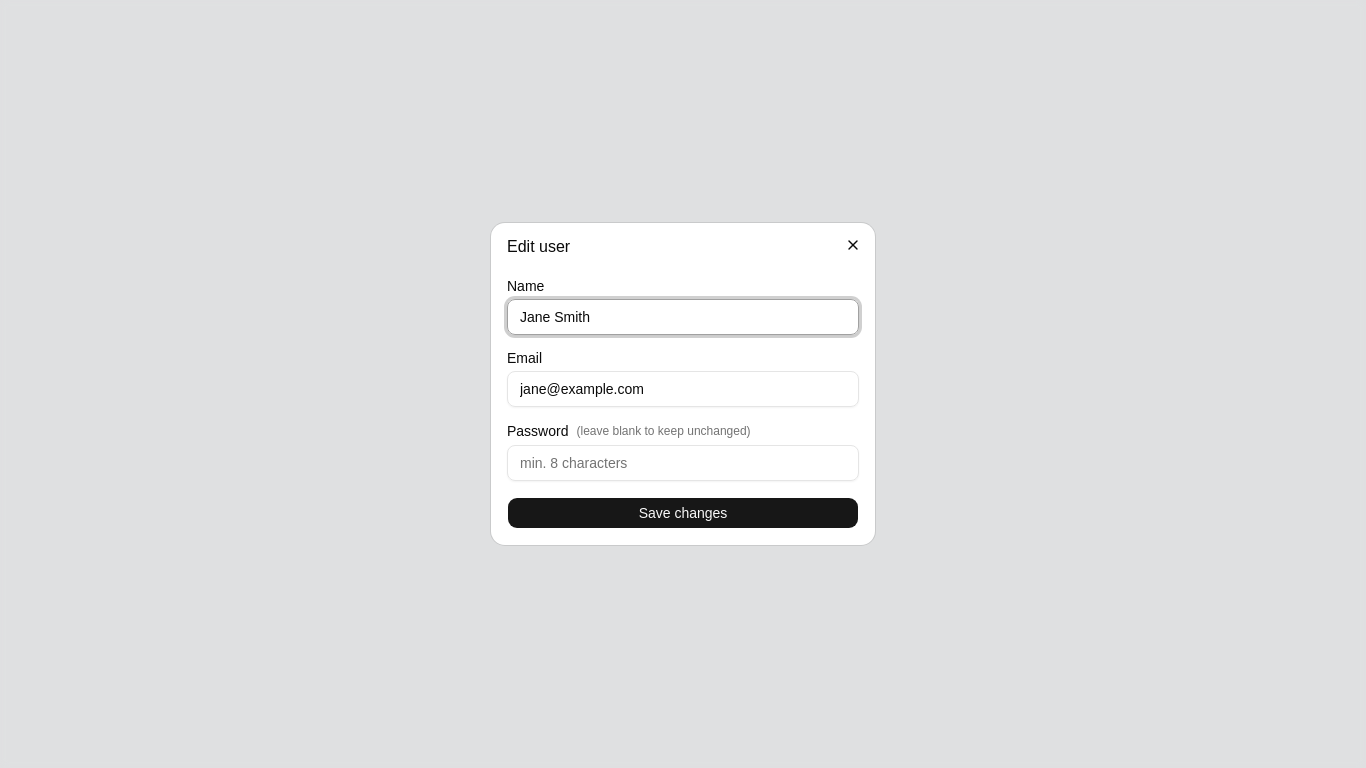
Test: UserDialog — edit mode › validation › shows a password error when a non-empty password is too short
In the password field with placeholder "min. 8 characters": (683, 463) x1=507 y1=445 x2=859 y2=481, type "short1"
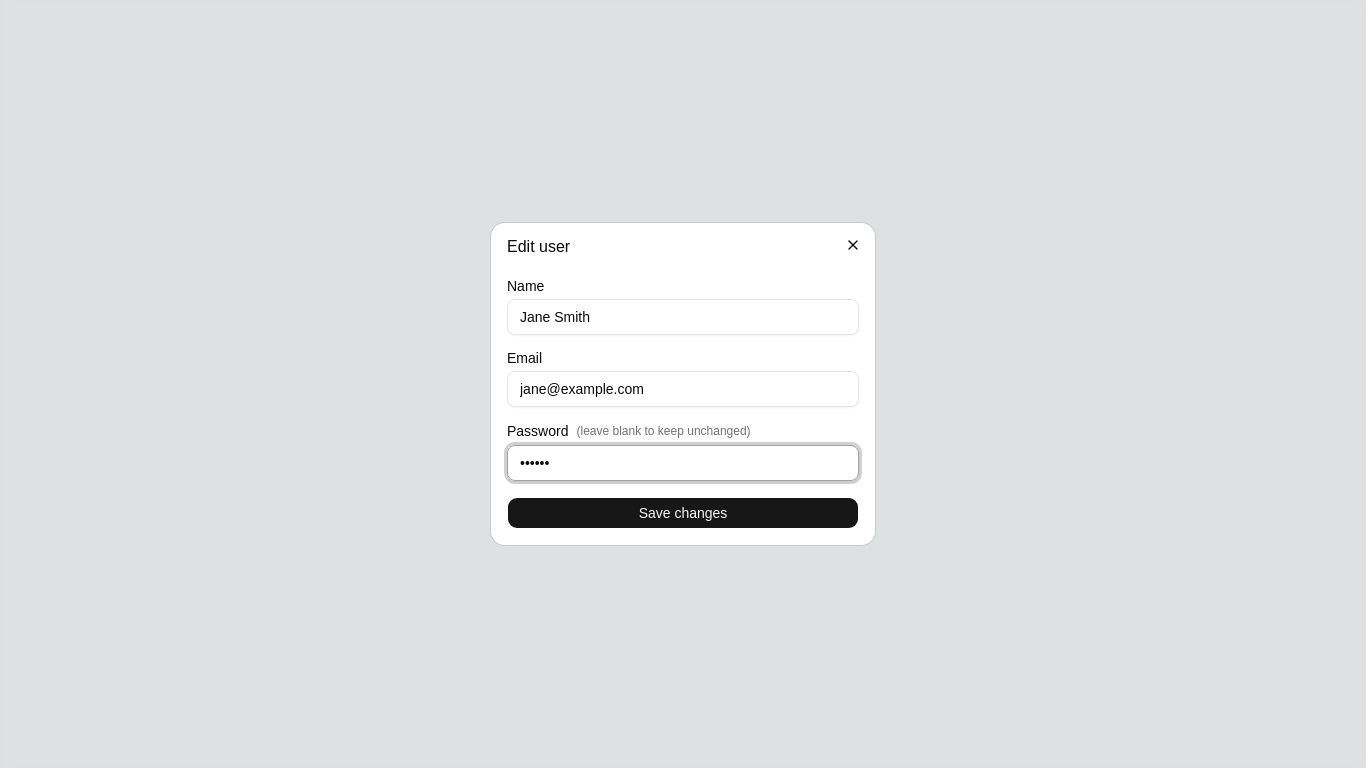
Click the button "Save changes": (683, 513) x1=507 y1=497 x2=859 y2=529
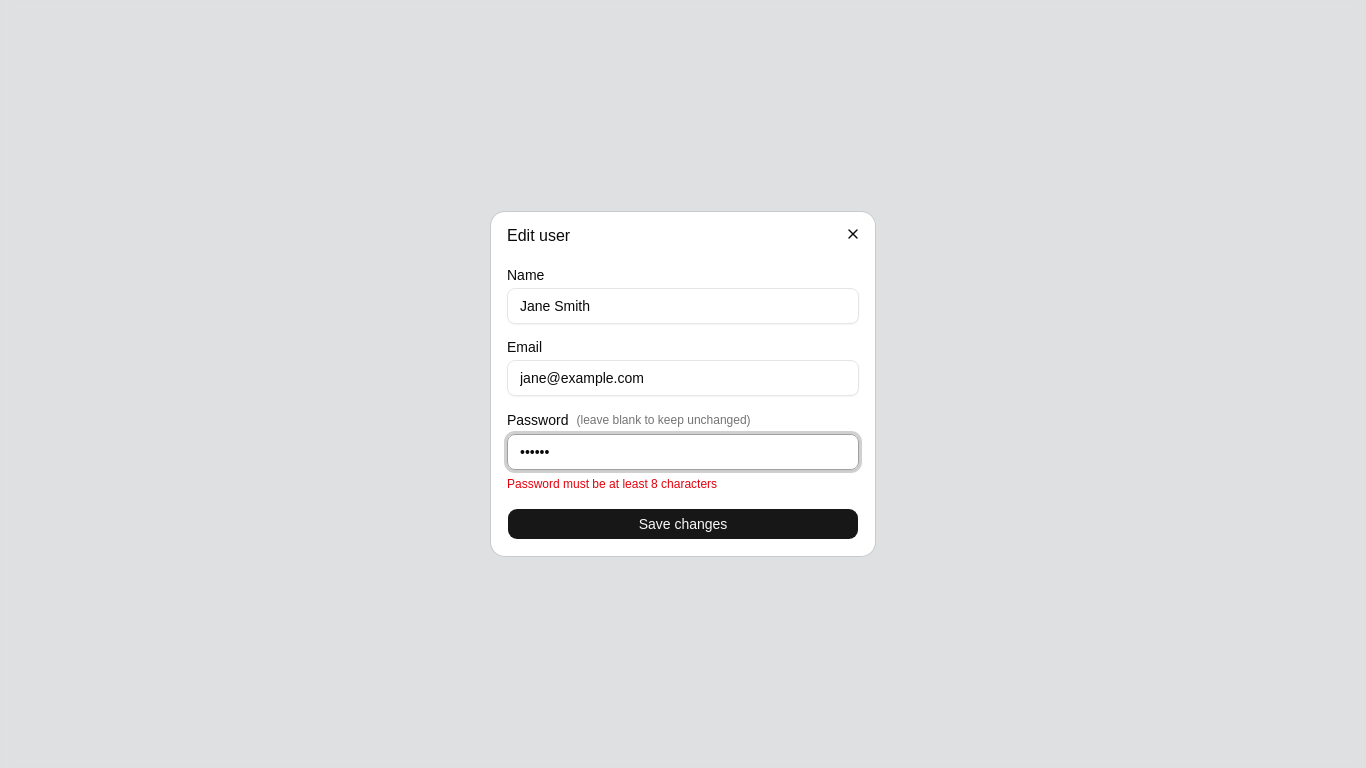
Expected: the text "Password must be at least 8 characters" is shown, x1=507 y1=477 x2=717 y2=491
